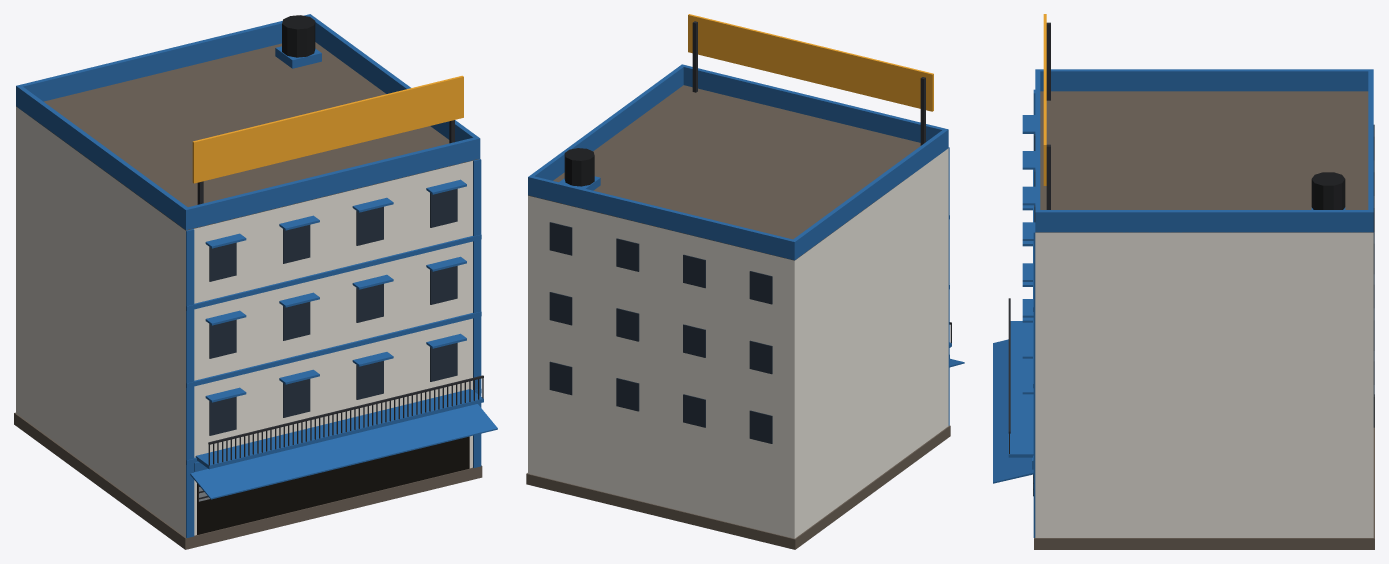
The model's file is bld_ot_lodge_01.glb.
The picture shows the model from 3 angles, left to right: view 1: azimuth 30°, elevation 25°; view 2: azimuth 150°, elevation 25°; view 3: azimuth 270°, elevation 25°; orthographic projection. The views are drawn at different scales.
Parts seen in each view (by area): view 1: bld_ot_lodge_01; view 2: bld_ot_lodge_01; view 3: bld_ot_lodge_01.
Boxes of the visible parts, <box> form: bld_ot_lodge_01: <box>14,14,497,549</box>; bld_ot_lodge_01: <box>526,14,964,549</box>; bld_ot_lodge_01: <box>993,14,1374,549</box>.
Size of what is drawn, in the model's own units: 12.1 by 15.6 by 13.55.
